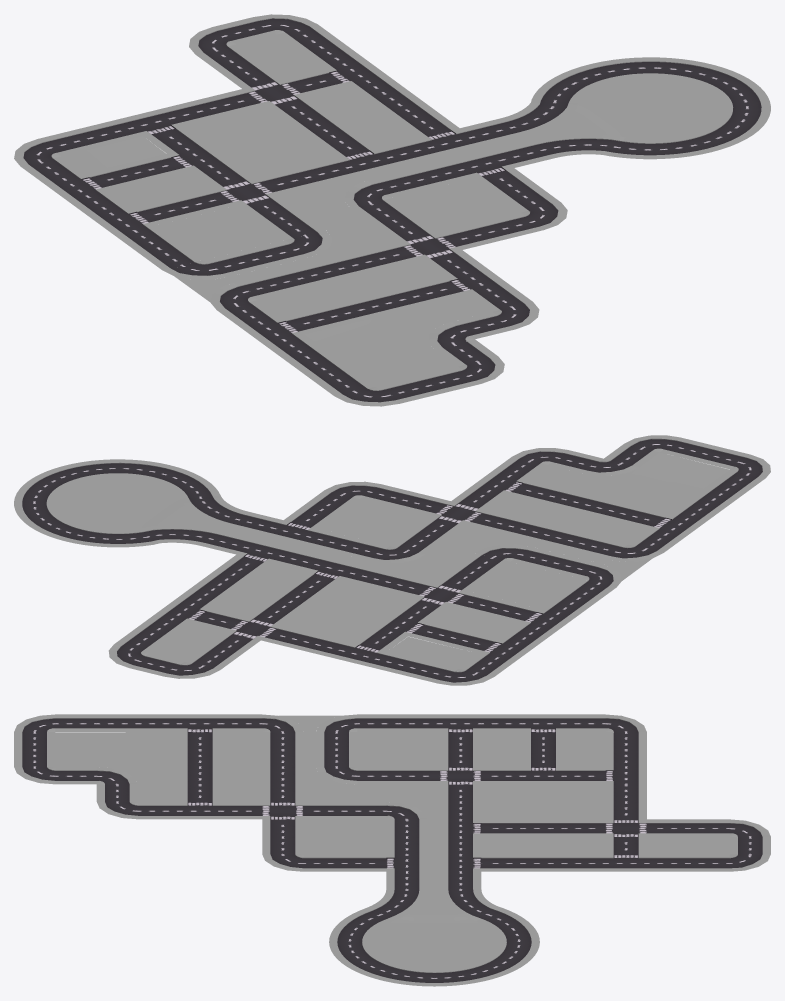
File: NewWorld.fbx
3 renders of one model, top to bottom at view 1: azimuth 30°, elevation 25°; view 2: azimuth 150°, elevation 25°; view 3: azimuth 270°, elevation 25°, orthographic. The views are drawn at different scales.
Visible parts, largest first — view 1: World_New; view 2: World_New; view 3: World_New.
Part boxes in pixels (x1,y1,x2,y2): World_New: (14, 14, 770, 406); World_New: (14, 435, 770, 685); World_New: (14, 714, 770, 986).
Size of the model in its own units: 31090 by 59.83 by 36600.
4 materials, 3 textured.
